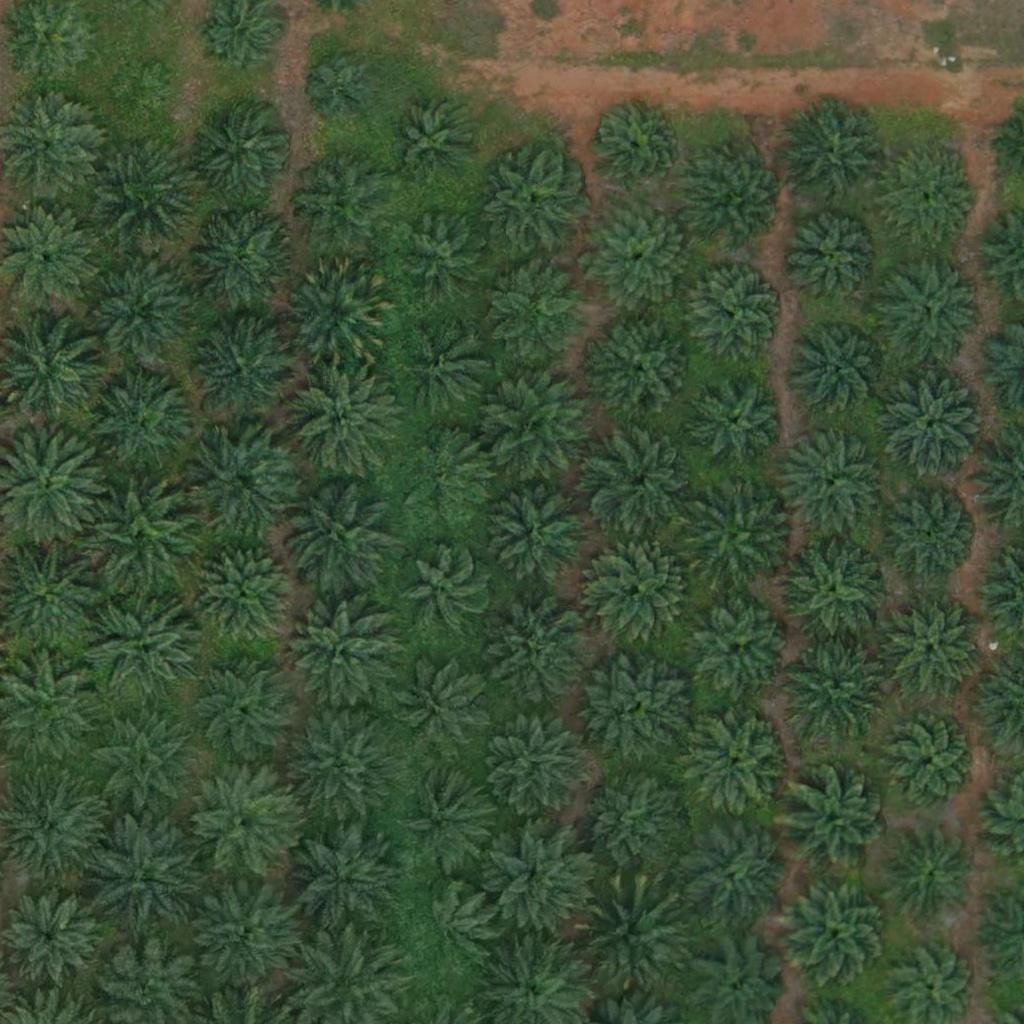Kelapa_Sawit: (583, 201, 696, 315), (587, 313, 700, 427), (684, 477, 797, 591), (776, 534, 889, 648), (784, 633, 897, 747), (187, 879, 300, 993), (85, 708, 198, 822), (87, 818, 200, 932), (281, 257, 394, 370), (184, 98, 297, 211), (285, 361, 398, 474), (280, 478, 393, 591), (284, 600, 397, 713), (482, 708, 595, 821), (778, 765, 891, 878), (780, 875, 893, 988), (484, 822, 597, 935), (774, 427, 886, 541), (185, 206, 297, 319), (86, 135, 198, 248), (84, 257, 196, 370), (82, 364, 194, 477), (81, 480, 193, 593), (89, 594, 201, 707), (184, 427, 296, 540), (188, 651, 300, 764), (287, 708, 399, 821), (485, 371, 597, 484), (483, 479, 595, 592), (587, 428, 699, 541), (586, 652, 698, 765), (778, 98, 890, 211), (878, 368, 990, 481), (577, 768, 689, 881), (576, 883, 688, 996), (286, 823, 398, 936), (186, 766, 298, 879), (289, 154, 389, 255), (190, 319, 290, 420), (193, 542, 293, 643), (491, 603, 591, 704), (589, 539, 689, 640), (686, 153, 786, 254), (691, 596, 791, 697), (787, 212, 887, 313), (789, 318, 889, 419), (880, 150, 980, 251), (882, 256, 982, 357), (880, 824, 980, 925), (684, 711, 784, 812), (681, 823, 781, 924), (396, 769, 496, 870), (482, 153, 582, 253), (495, 263, 595, 363), (686, 262, 786, 362), (689, 373, 789, 473), (881, 484, 981, 584), (883, 601, 983, 701), (880, 711, 980, 811), (389, 98, 477, 186), (400, 328, 488, 416), (405, 886, 493, 974), (405, 218, 492, 306), (404, 432, 491, 520), (399, 546, 486, 634), (400, 662, 487, 750), (590, 101, 677, 189), (307, 56, 370, 119), (109, 59, 171, 122)
